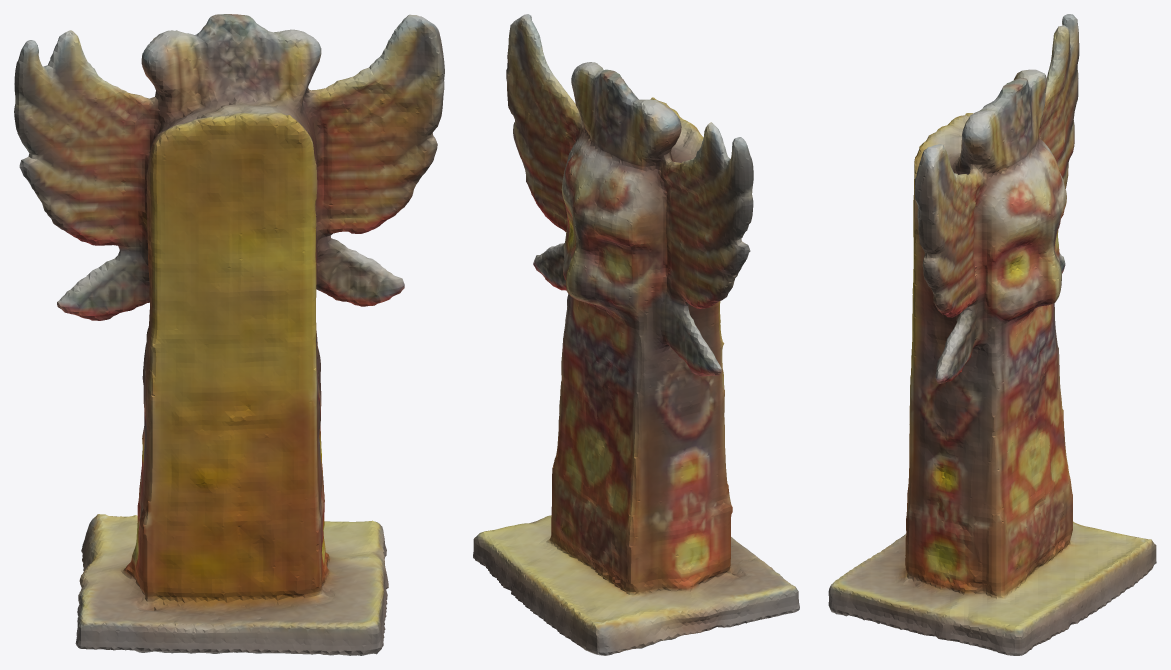
Rendered from tmpyqtdx7fj.glb.
The picture shows the model from 3 angles, left to right: view 1: azimuth 30°, elevation 25°; view 2: azimuth 150°, elevation 25°; view 3: azimuth 270°, elevation 25°; orthographic projection. The views are drawn at different scales.
Visible parts, largest first — view 1: world; view 2: world; view 3: world.
Boxes of the visible parts, x1=… form: world: x1=14, y1=14, x2=444, y2=655; world: x1=473, y1=14, x2=799, y2=655; world: x1=828, y1=14, x2=1156, y2=655.
Size of the model in its own units: 1.27 by 2 by 1.16.
